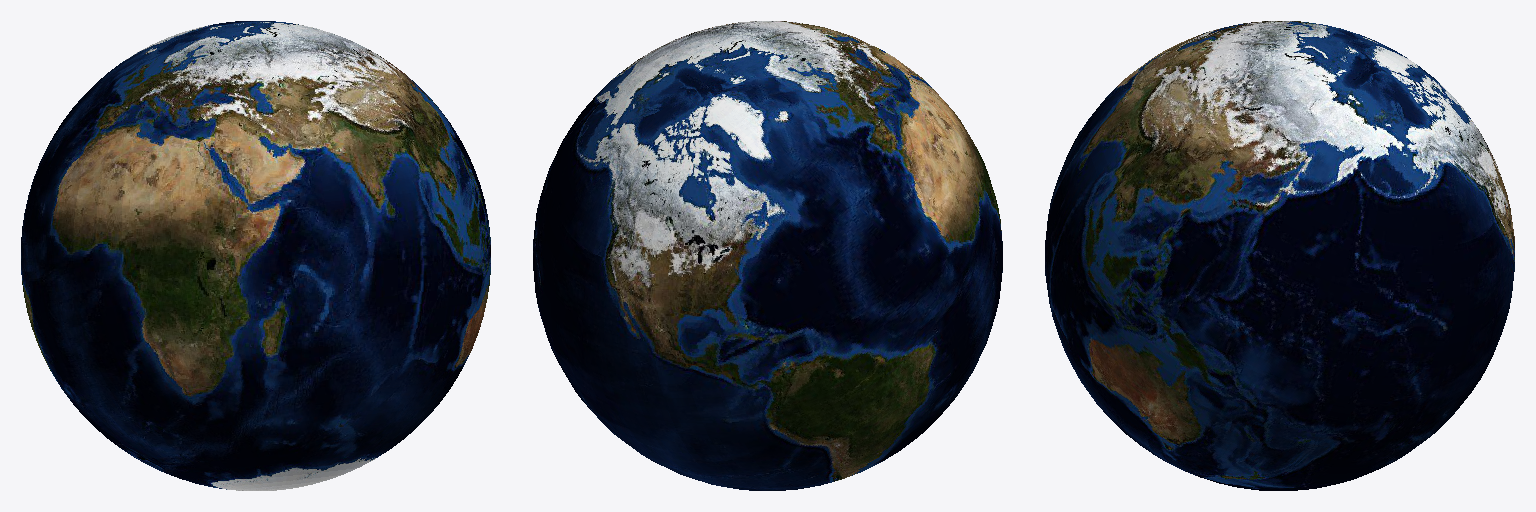
3 renders of one model, left to right at view 1: azimuth 30°, elevation 25°; view 2: azimuth 150°, elevation 25°; view 3: azimuth 270°, elevation 25°, orthographic.
Parts seen in each view (by area): view 1: Plane; view 2: Plane; view 3: Plane.
Part boxes in pixels (x1,y1,x2,y2): Plane: (21,21,490,490); Plane: (533,21,1002,490); Plane: (1045,21,1514,490).
Bounding box in the file's own units: 3.53 × 3.54 × 3.54.
1 materials, 1 textured.